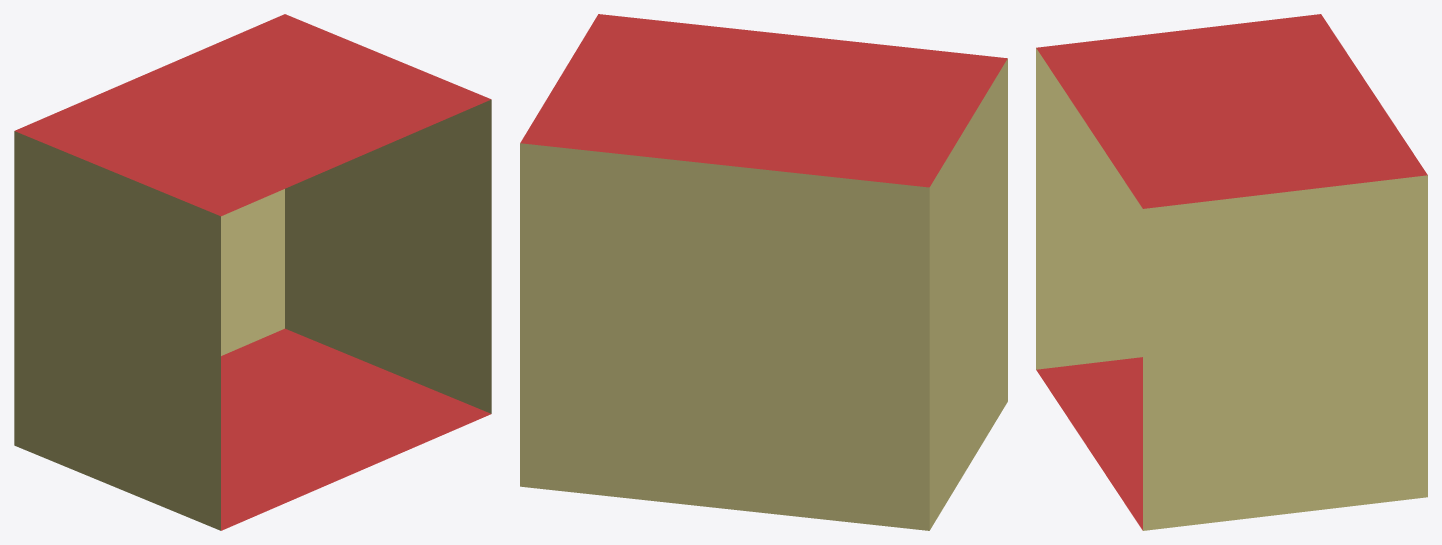
The picture shows the model from 3 angles, left to right: view 1: azimuth 30°, elevation 25°; view 2: azimuth 150°, elevation 25°; view 3: azimuth 270°, elevation 25°; orthographic projection. The views are drawn at different scales.
Bounding box in the file's own units: 7.53 × 6.39 × 5.8.
